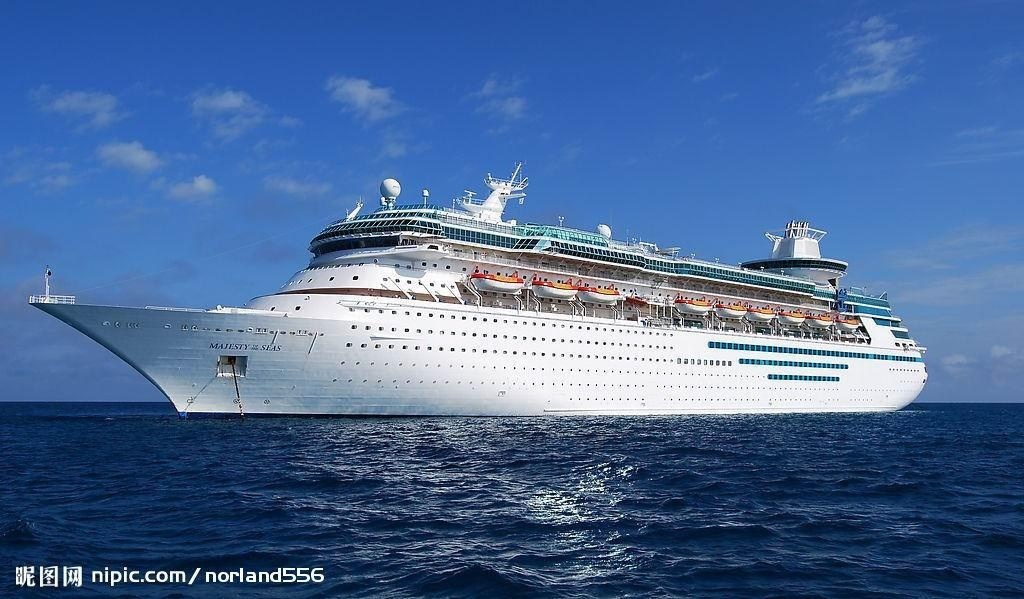youlun: (23, 164, 931, 415)
